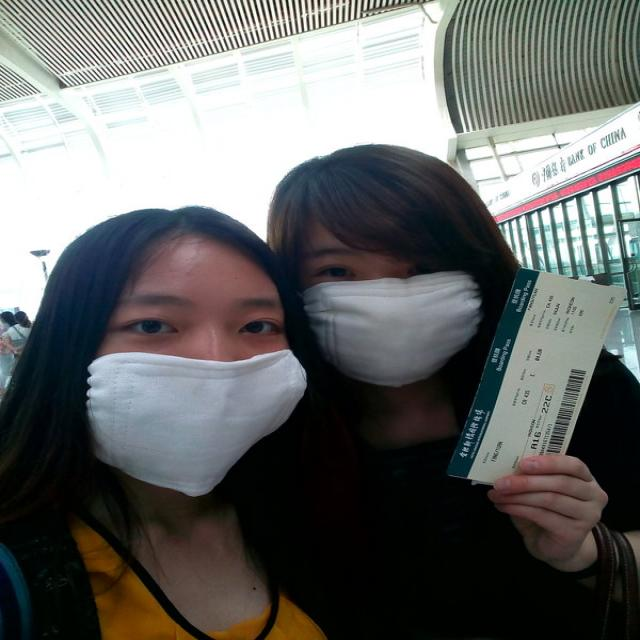mask: (87, 228, 299, 492), (298, 222, 455, 384)
